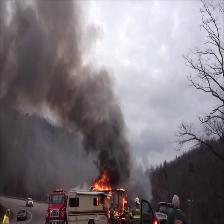fire: (96, 178, 109, 191)
smoke: (13, 22, 81, 98), (80, 104, 119, 150), (103, 152, 126, 173)
